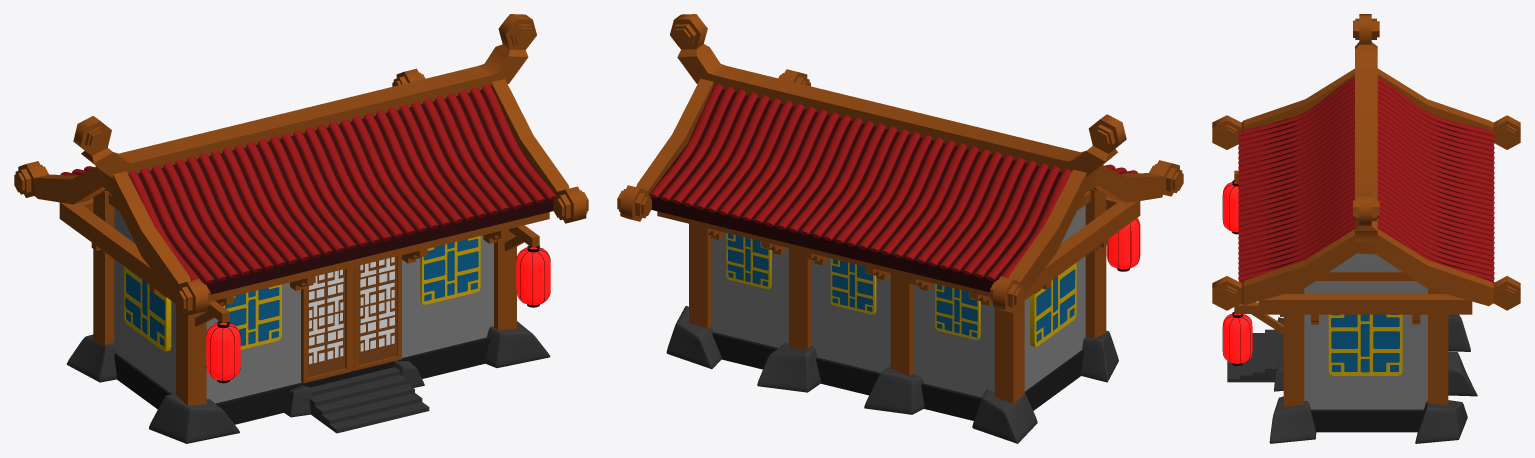
File: chibuild4combine.FBX
3 renders of one model, left to right at view 1: azimuth 30°, elevation 25°; view 2: azimuth 150°, elevation 25°; view 3: azimuth 270°, elevation 25°, orthographic. The views are drawn at different scales.
Parts seen in each view (by area): view 1: Box002, Cylinder001, Cylinder002; view 2: Box002, Cylinder001; view 3: Box002, Cylinder002, Cylinder001.
Part boxes in pixels (x1,y1,x2,y2): Box002: (14,14,588,443); Cylinder001: (206,319,240,383); Cylinder002: (516,244,550,307); Box002: (617,14,1183,443); Cylinder001: (1106,218,1140,271); Box002: (1212,14,1520,443); Cylinder002: (1222,312,1252,365); Cylinder001: (1222,180,1238,234).
Size of the model in its own units: 136 by 84.26 by 91.37.
